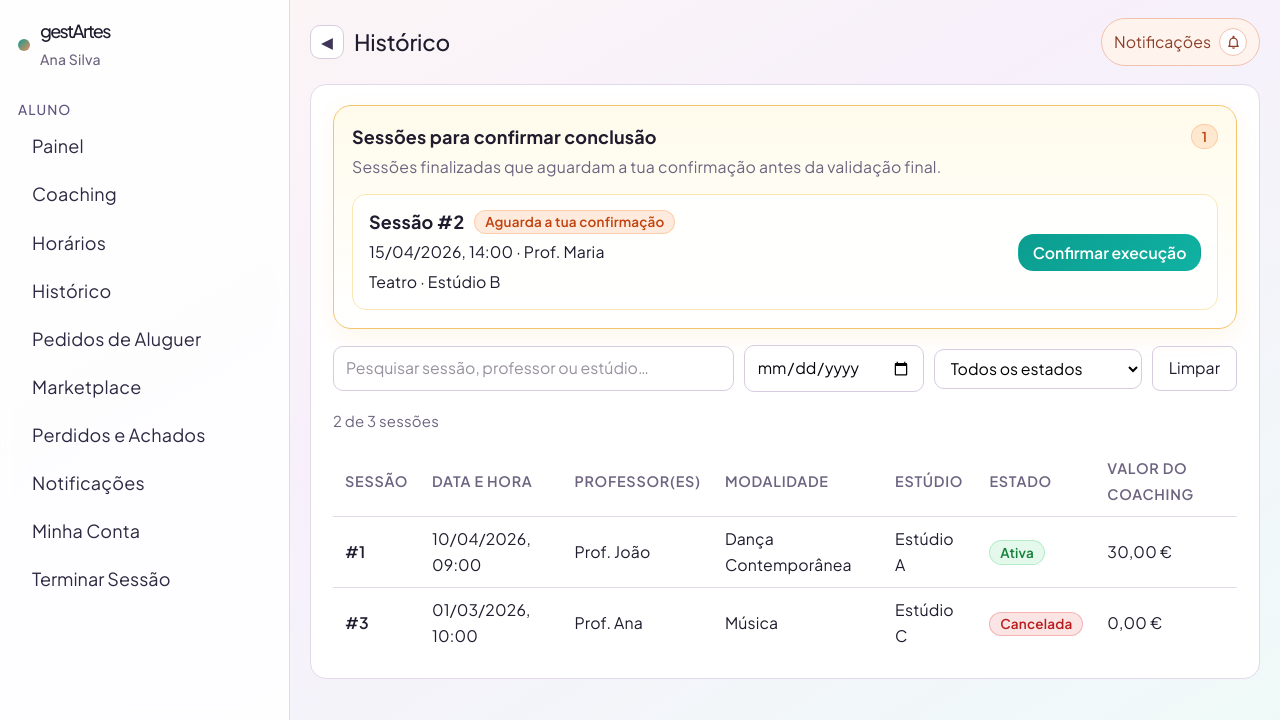
Scenario: MyHistoryPage › clears filters when clear button is clicked
Expected: the table with test id "history-table" is shown, [333,446,1237,658]
Type "Teatro" into the search field with test id "history-search".
click(533, 369); type("Teatro")  # box [333,346,734,391]
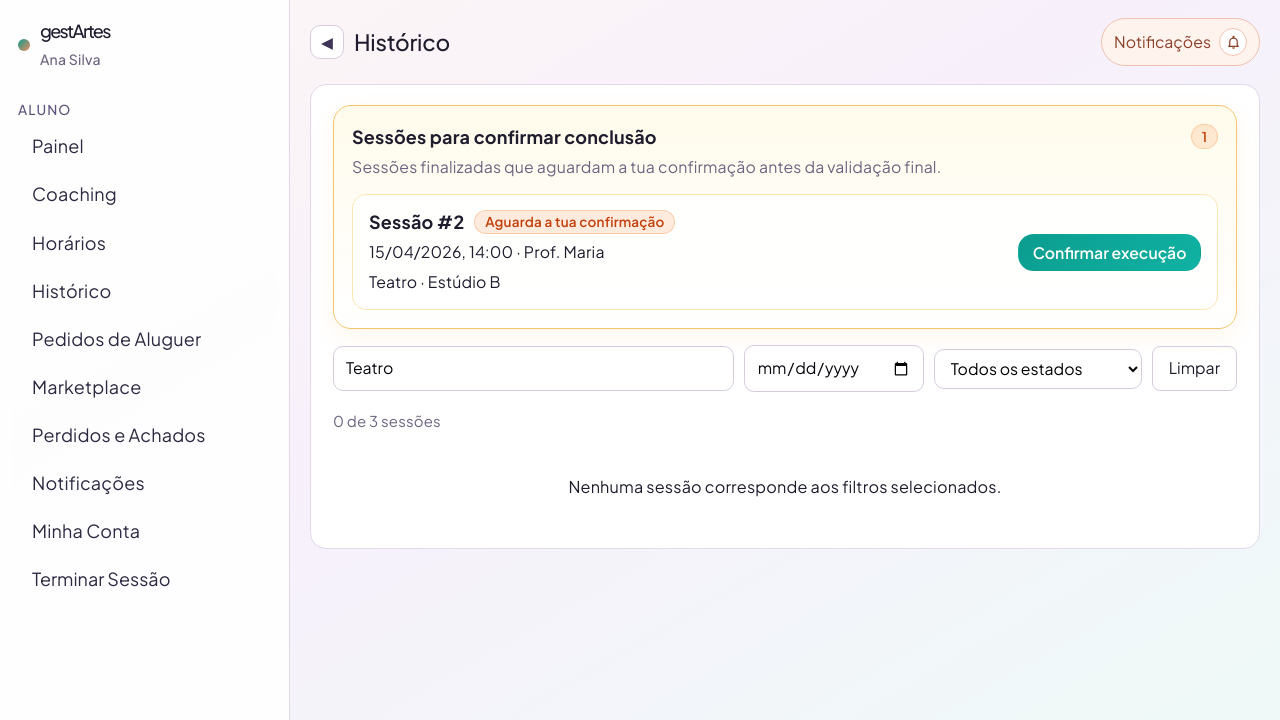
Click the button "Limpar".
click(1194, 369)  # box [1152,346,1237,391]
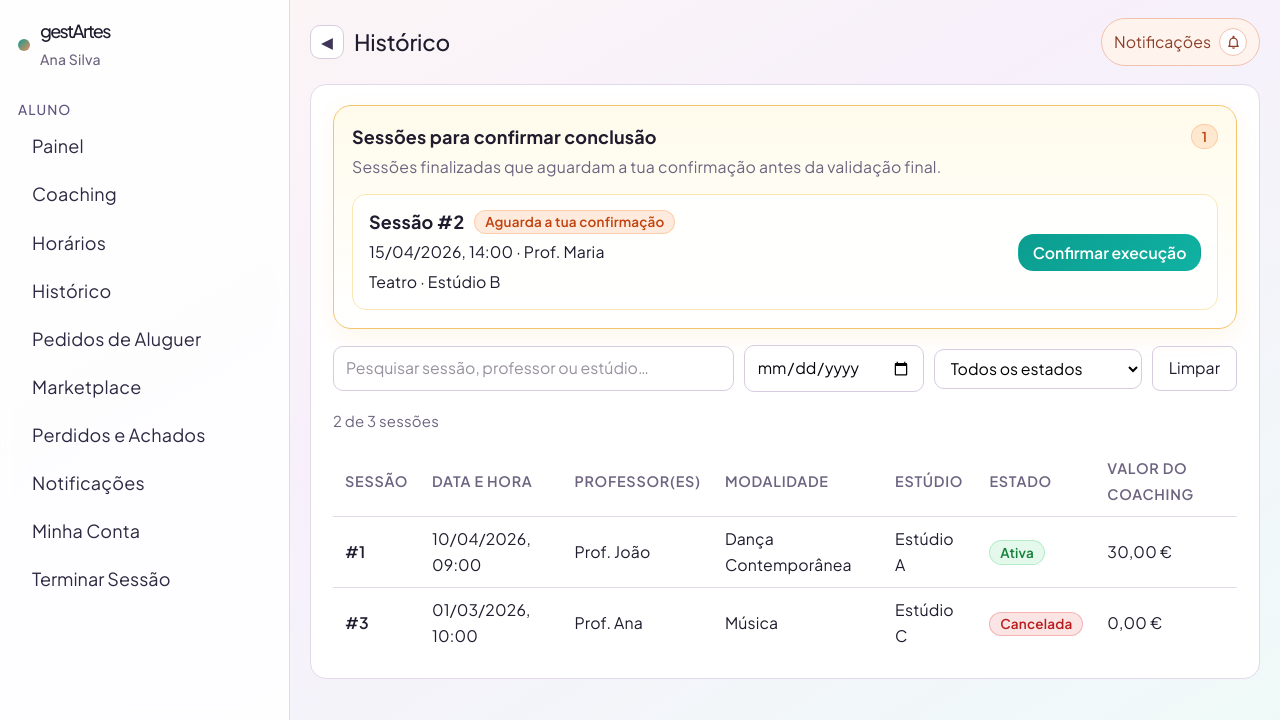
Expected: the text "Sessão #2" is shown, [369,209,464,235]
Expected: the text "#1" is shown, [345,542,365,562]
Expected: the text "#3" is shown, [345,613,369,633]
